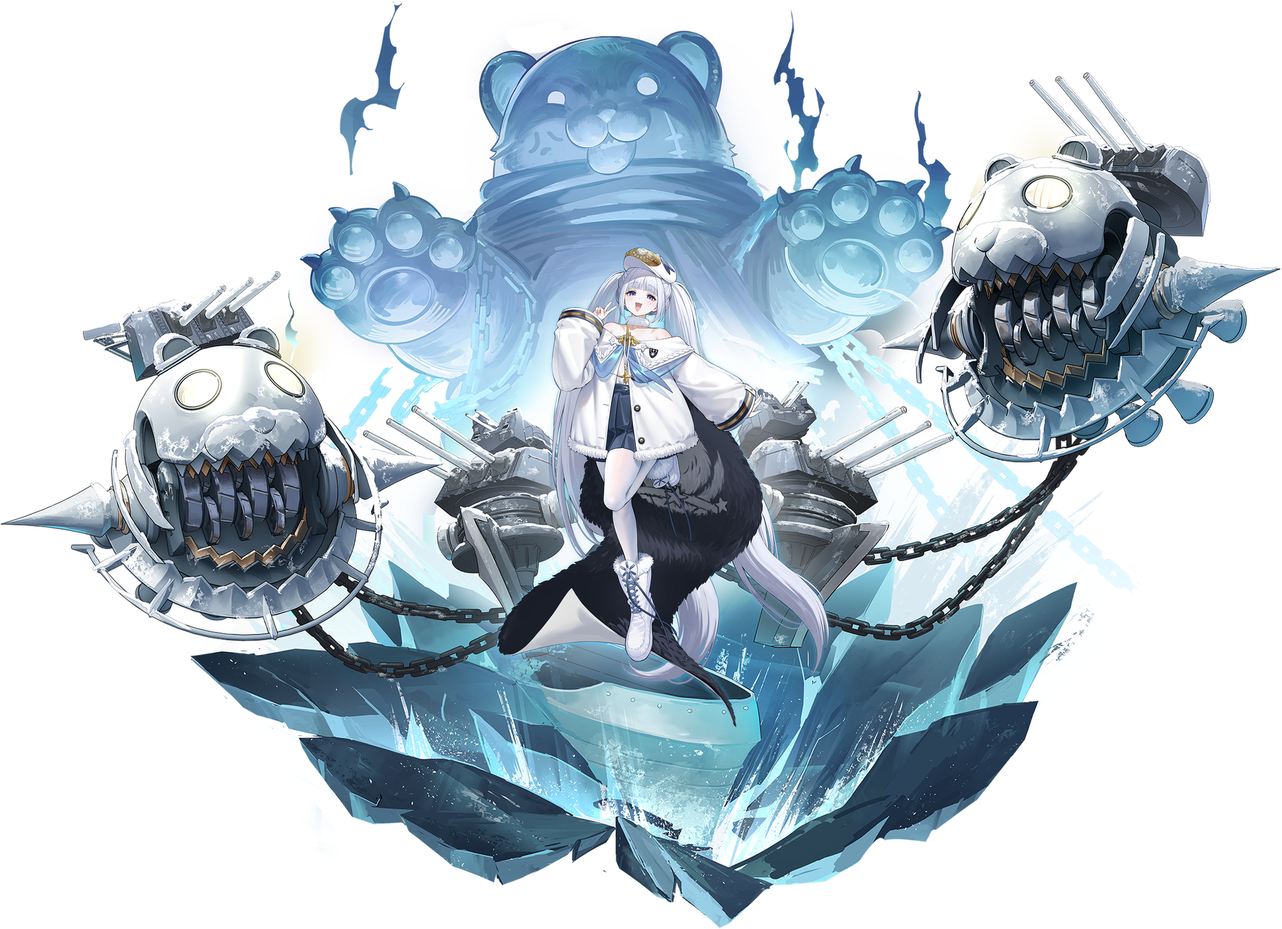person: (487, 231, 827, 718)
